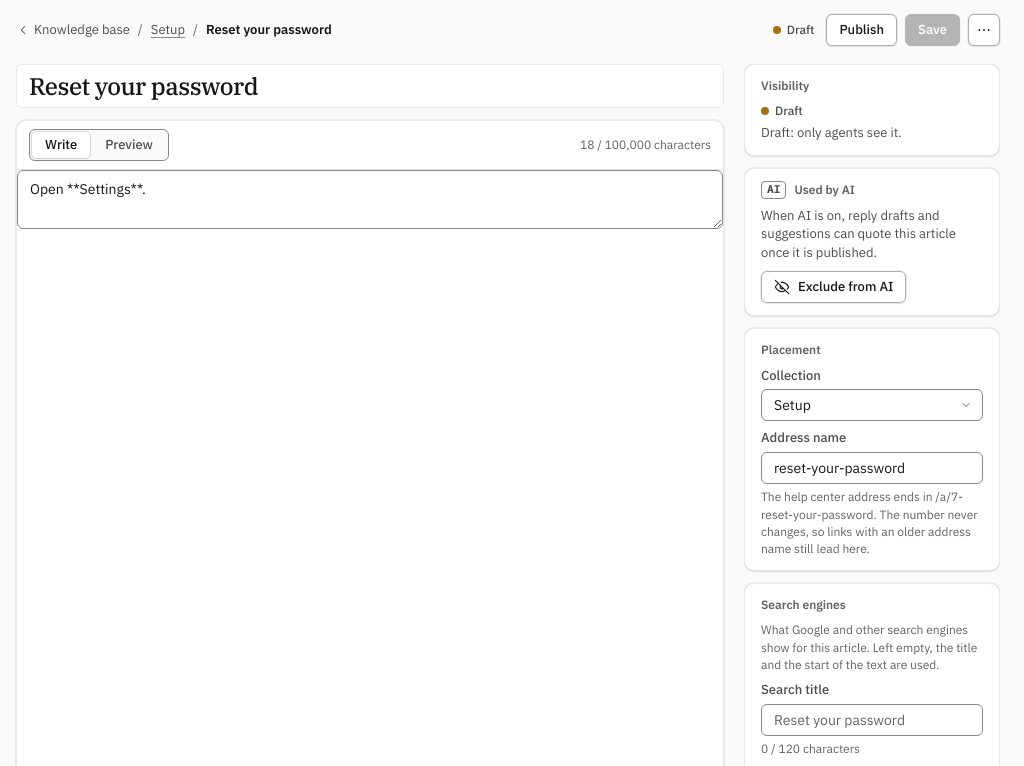
Test: a restore puts the restored text in the editor
The image size is (1024, 766).
Click the button named "More article actions" at coordinates (984, 30), box [968, 14, 1000, 46]
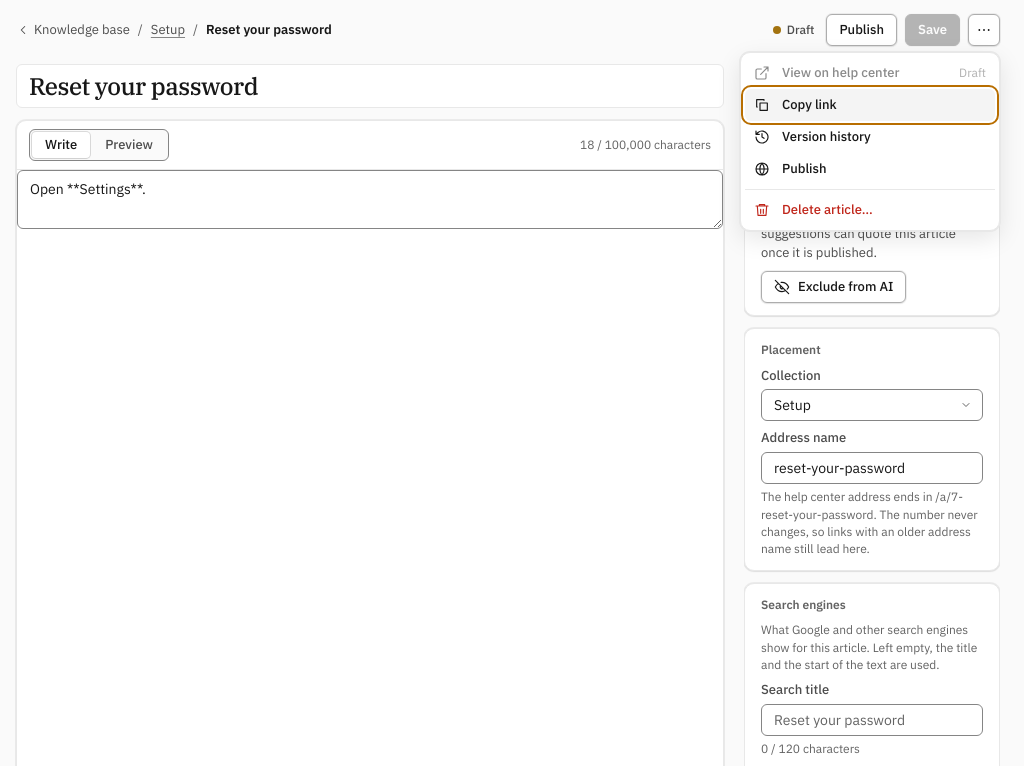
Click the menu item "Version history" at coordinates (870, 137), box [745, 121, 995, 153]
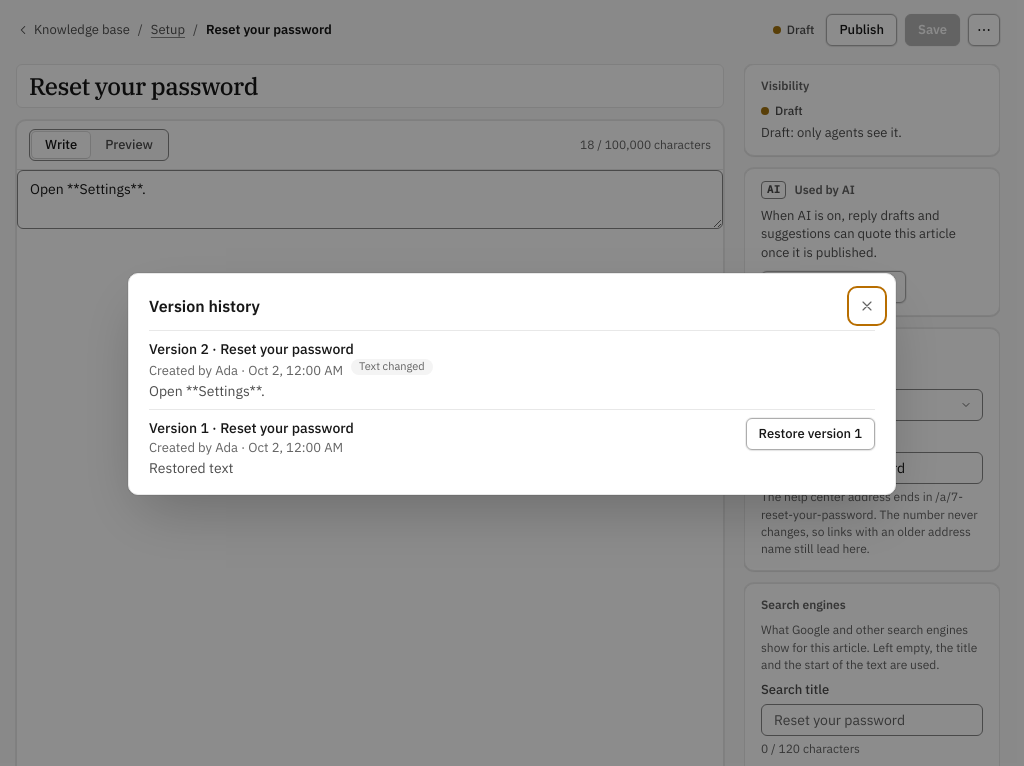
Click the button "Restore version 1" at coordinates (810, 434), box [746, 418, 875, 450]
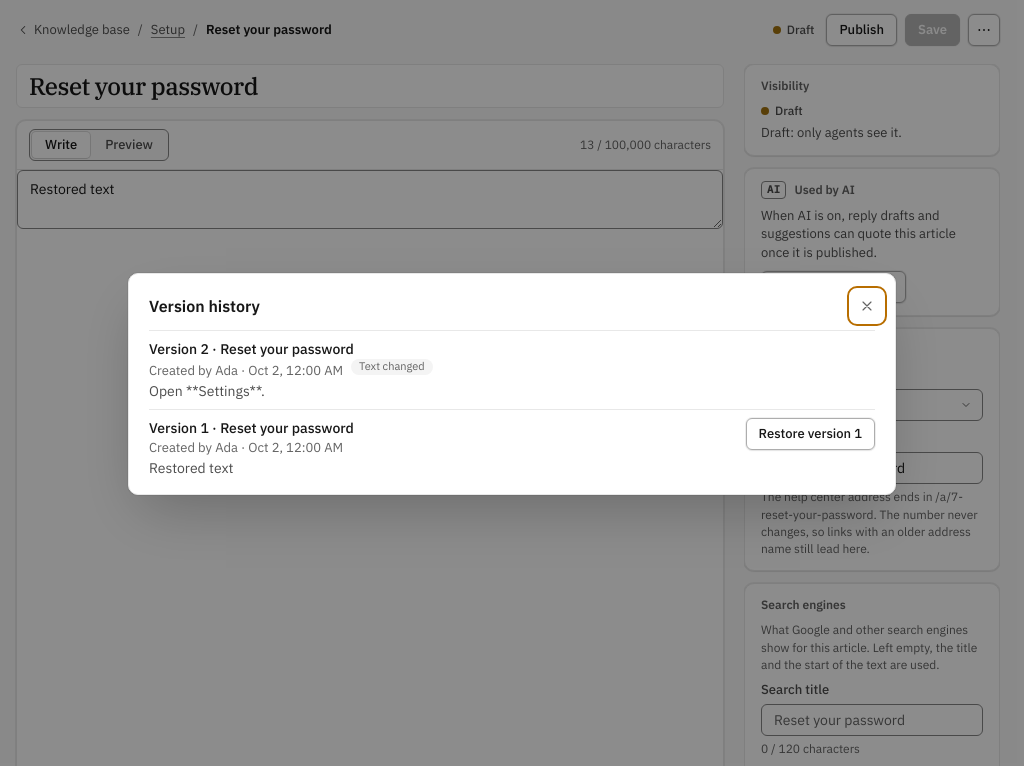
Expected: the button "Save" is disabled, [905, 14, 960, 46]
Expected: the text box named "Text (Markdown)" holds "Restored text", [17, 170, 723, 229]
